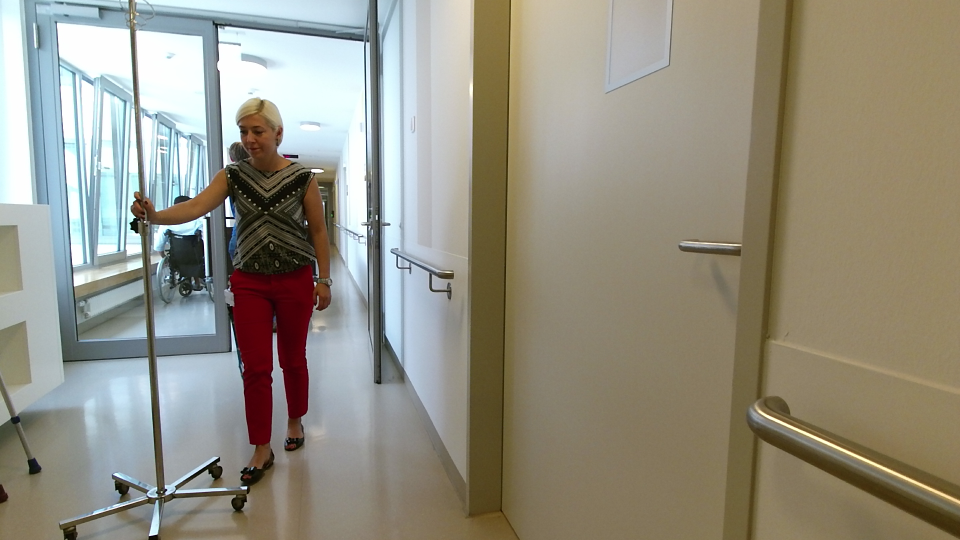wheelchair: (157, 188, 217, 295)
